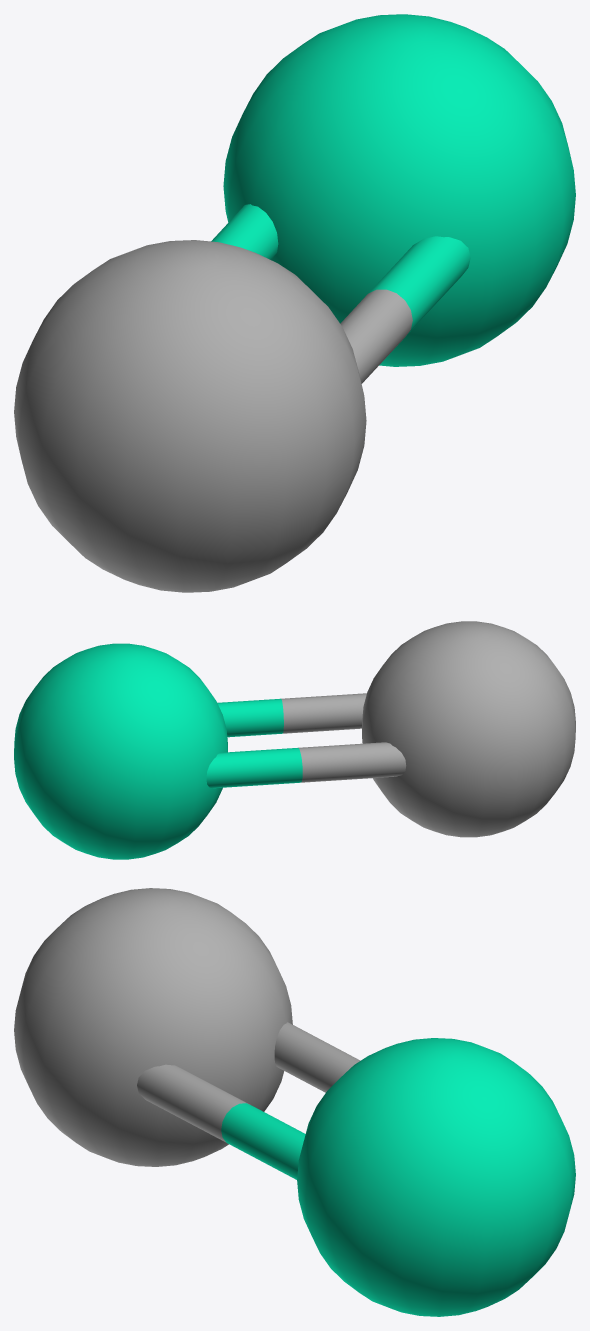
File: BeS.fbx
3 views of the same model, one above another, from view 1: azimuth 30°, elevation 25°; view 2: azimuth 150°, elevation 25°; view 3: azimuth 270°, elevation 25° (orthographic). The views are drawn at different scales.
Visible parts, largest first — view 1: BeS; view 2: BeS; view 3: BeS.
Boxes of the visible parts, x1,y1,x2,y2 form: BeS: (14, 14, 575, 592); BeS: (14, 621, 575, 859); BeS: (14, 888, 575, 1316).
Size of the model in its own units: 4.54 by 2 by 4.03.
